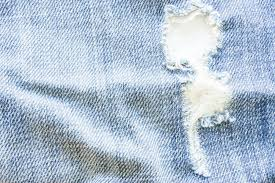Hole: (143, 1, 259, 181)
